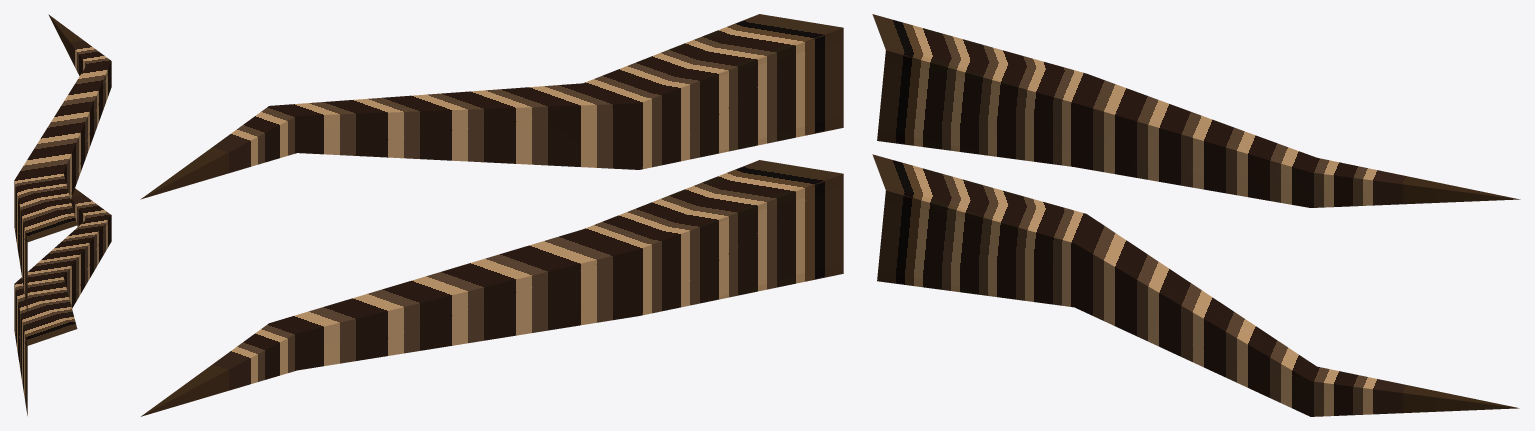
The model's file is gazelle_horns.glb.
3 renders of one model, left to right at view 1: azimuth 30°, elevation 25°; view 2: azimuth 150°, elevation 25°; view 3: azimuth 270°, elevation 25°, orthographic. The views are drawn at different scales.
Parts seen in each view (by area): view 1: Pyramid02-Pivot; view 2: Pyramid02-Pivot; view 3: Pyramid02-Pivot.
Part boxes in pixels (x1,y1,x2,y2): Pyramid02-Pivot: (14,14,111,415); Pyramid02-Pivot: (140,14,843,416); Pyramid02-Pivot: (872,14,1520,416).
Size of the model in its own units: 0.5414 by 0.3596 by 0.8637.
Materials: 1 (1 with a texture image).
